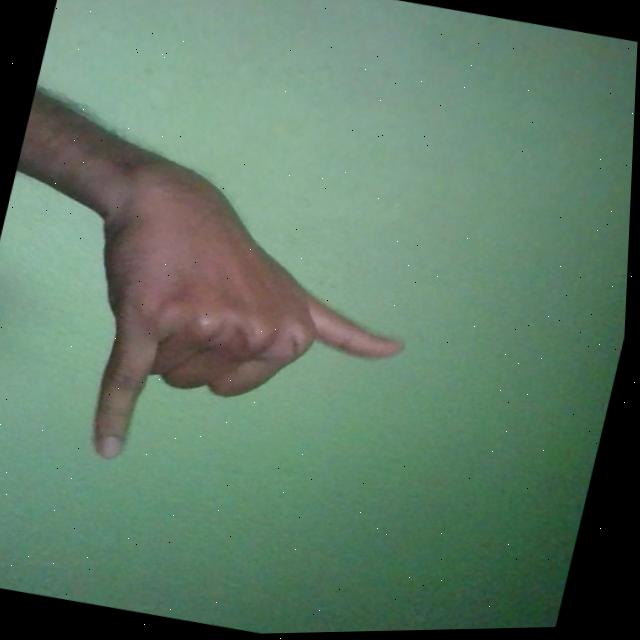Call Me: (49, 141, 441, 512)
